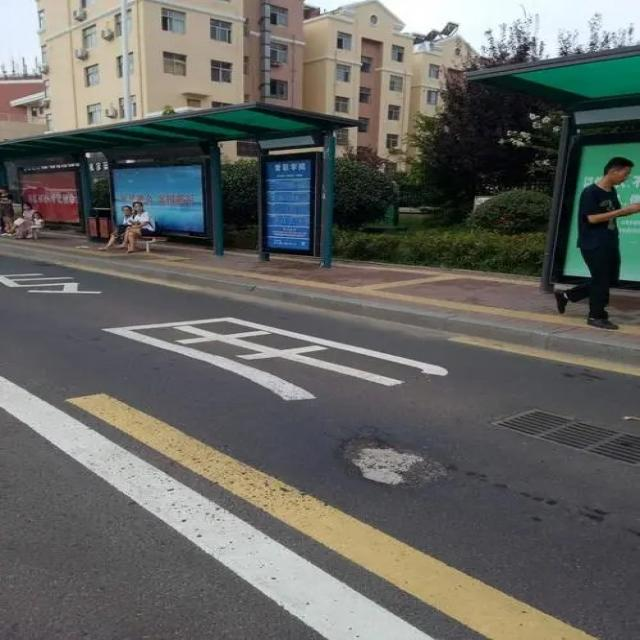Pothole: (330, 434, 452, 487)
